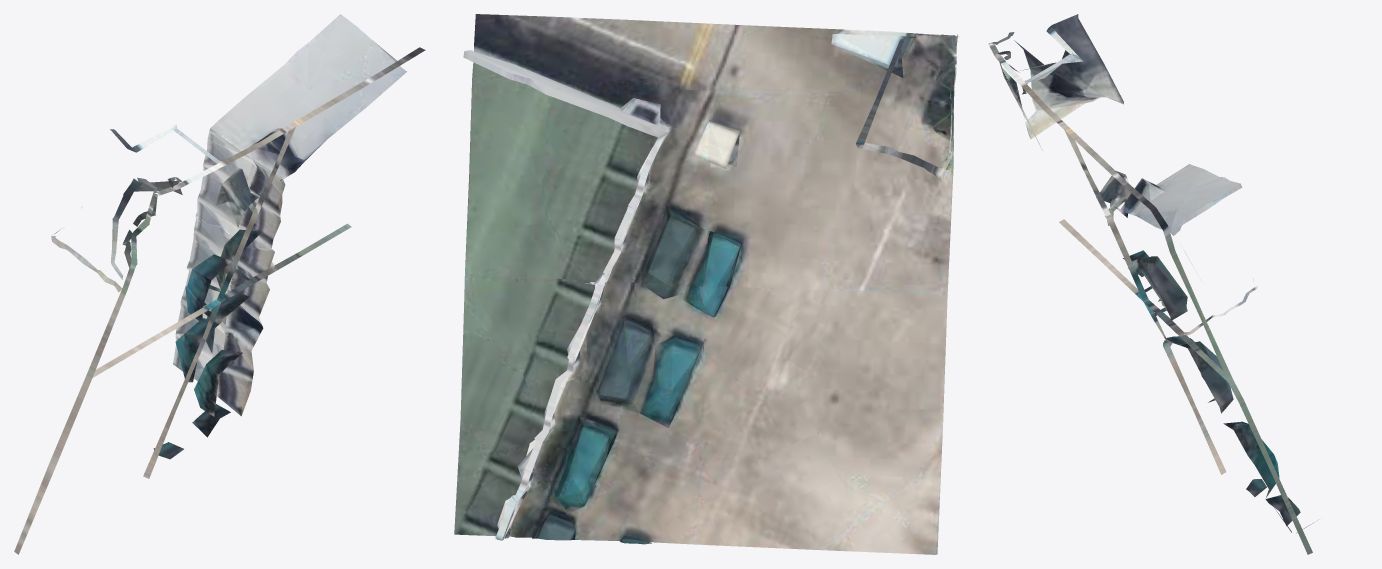
File: AJVsH2z_gEqNjPZSwrcRSqumRdPMQJtZkYEhUYqdg9Rzr3g7jXshZr8gsICMFZNlv_9hgAjSMM8lvtW7OCwG9iJ1PcCcwl0aJ15NDLkbZRLfZK0WGalG7sAS_ZFUhcI3m3FWuR6PaKkZHKyssCXFVa4vbqLN.glb
The picture shows the model from 3 angles, left to right: view 1: azimuth 30°, elevation 25°; view 2: azimuth 150°, elevation 25°; view 3: azimuth 270°, elevation 25°; orthographic projection. The views are drawn at different scales.
Size of the model in its own units: 38.42 by 38.27 by 32.27.
Materials: 1 (1 with a texture image).
